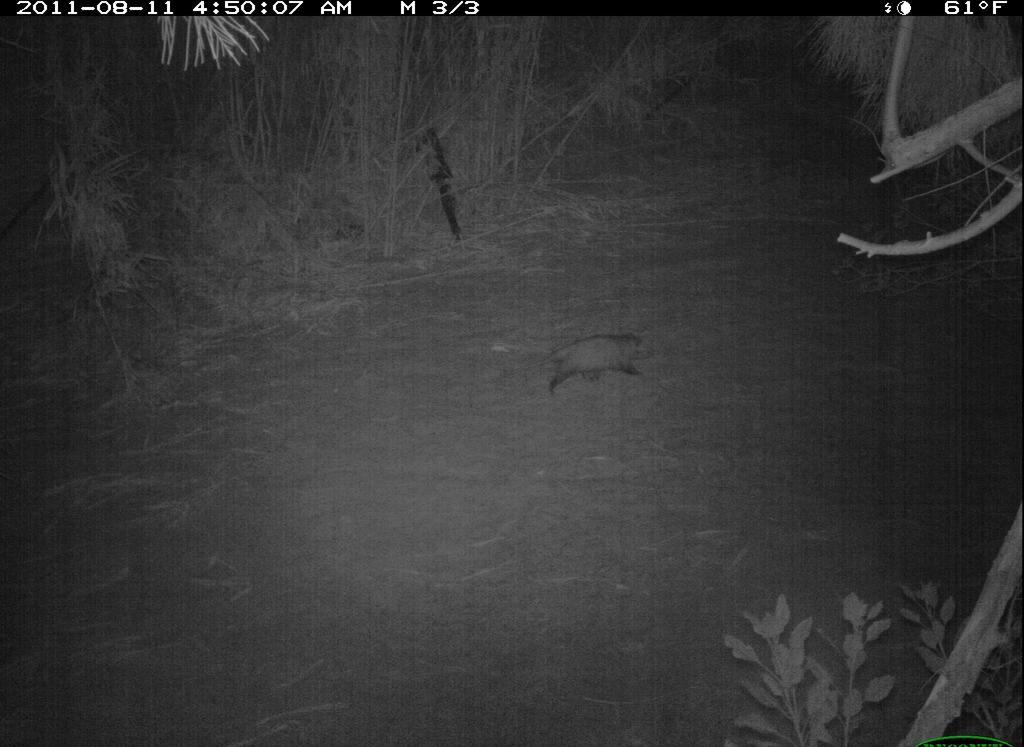opossum: (533, 329, 675, 405)
